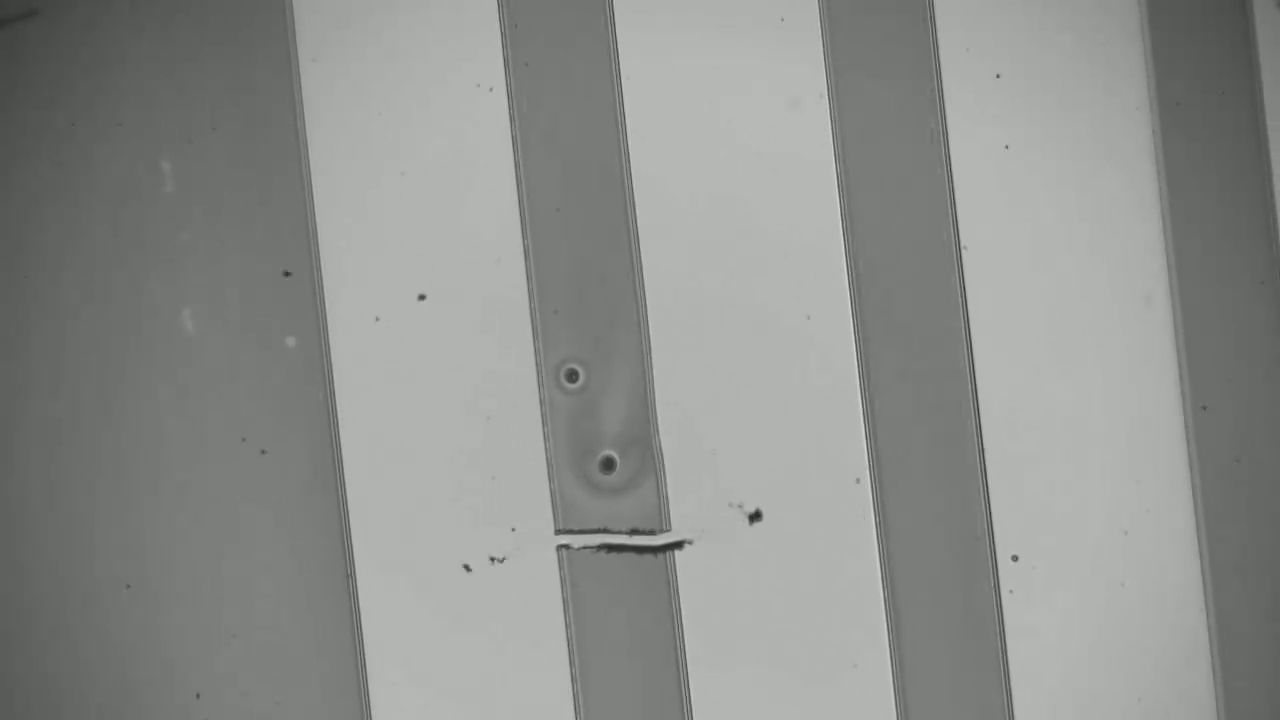Short_circuit: (536, 515, 709, 577)
